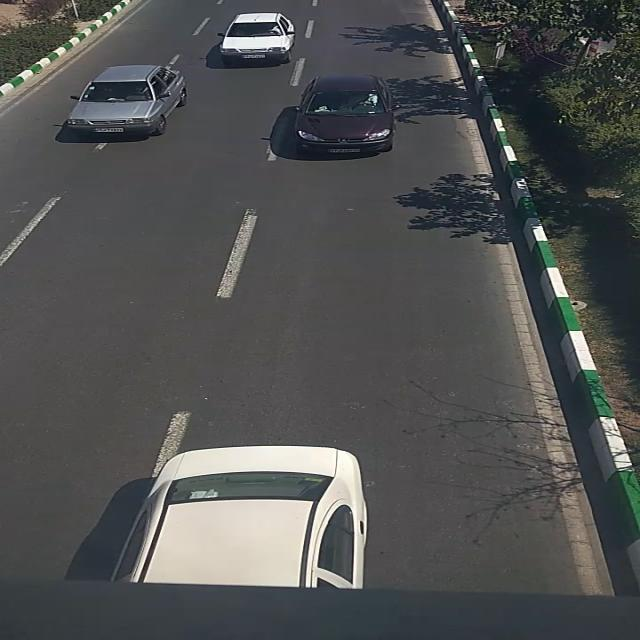car: (107, 445, 377, 593), (67, 63, 191, 139), (294, 74, 398, 160), (217, 13, 299, 67)
